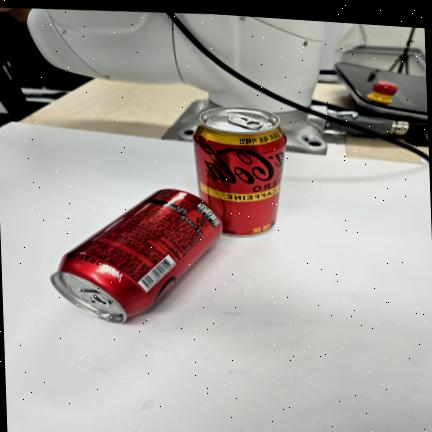can_coke_decaf: (193, 107, 287, 236)
can_coke_zero: (51, 189, 222, 323)
